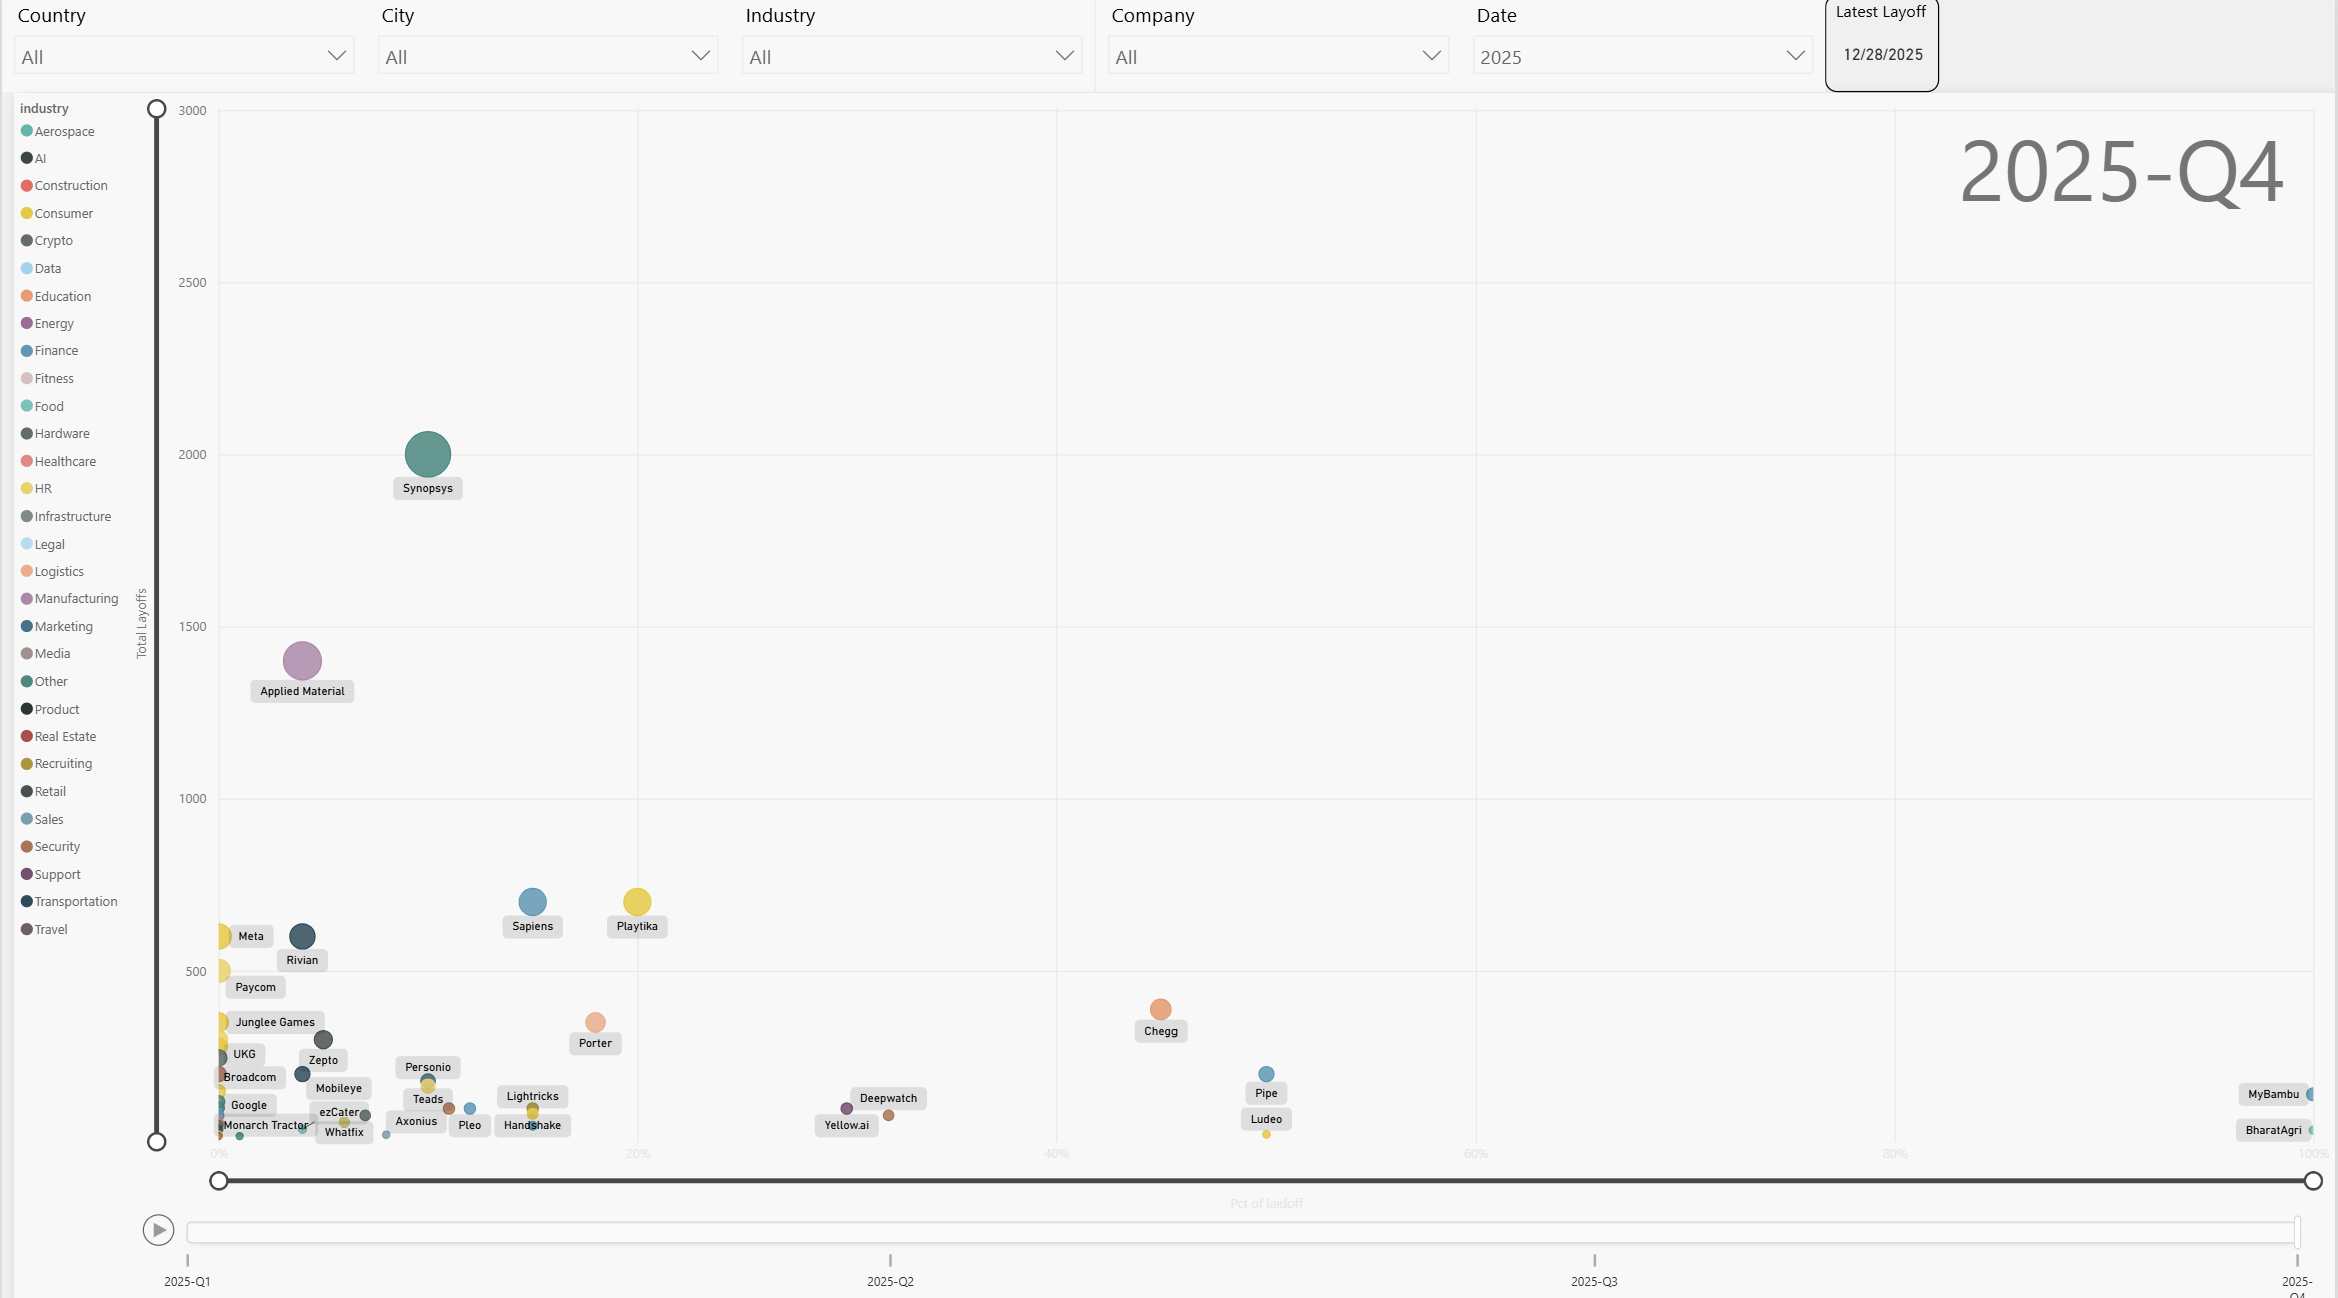

This screenshot's page, from the dashboard's own definition file:
{"tool":"powerbi","page":{"name":"LayOff Details","canvas":[1920,1080],"ordinal":1},"visuals":[{"type":"scatterChart","title":"Company # and Total layoffs by Industry","fields":{"Size":["Sum(layoffs.total_laid_off)"],"Y":["Sum(layoffs.total_laid_off)"],"Series":["layoffs.industry"],"Category":["layoffs.company"],"X":["layoffs.percentage_laid_off"],"Play":["DateTable.Qty"]},"box":[10,80,1910,1002],"z":0},{"type":"slicer","fields":{"Values":["layoffs.company"]},"box":[900,0,300,80],"z":1000},{"type":"card","title":"Latest Layoff","fields":{"Values":["Max(layoffs.date)"]},"box":[1500,0,94,80],"z":2000},{"type":"slicer","fields":{"Values":["layoffs.country"]},"box":[0,0,300,80],"z":3000},{"type":"slicer","fields":{"Values":["layoffs.city"]},"box":[300,0,300,80],"z":4000},{"type":"slicer","fields":{"Values":["layoffs.industry"]},"box":[600,0,300,80],"z":5000},{"type":"slicer","fields":{"Values":["DateTable.Date Hierarchy.Year","DateTable.Date Hierarchy.Qty","DateTable.Date Hierarchy.Mon","DateTable.Date Hierarchy.Week","DateTable.Date Hierarchy.Date"]},"box":[1200,0,300,80],"z":6000}]}

Visuals, with their boxes in screenshot pixels (x1, y1, x2, y2), scaled from the page's 1920x1080 canvas onto the 2338x1298 screenshot:
"Company # and Total layoffs by Industry" scatterChart: BBox(12, 96, 2337, 1297)
slicer - layoffs.company: BBox(1096, 0, 1461, 96)
"Latest Layoff" card: BBox(1827, 0, 1941, 96)
slicer - layoffs.country: BBox(0, 0, 365, 96)
slicer - layoffs.city: BBox(365, 0, 731, 96)
slicer - layoffs.industry: BBox(731, 0, 1096, 96)
slicer - DateTable.Date Hierarchy.Year x DateTable.Date Hierarchy.Qty: BBox(1461, 0, 1827, 96)
